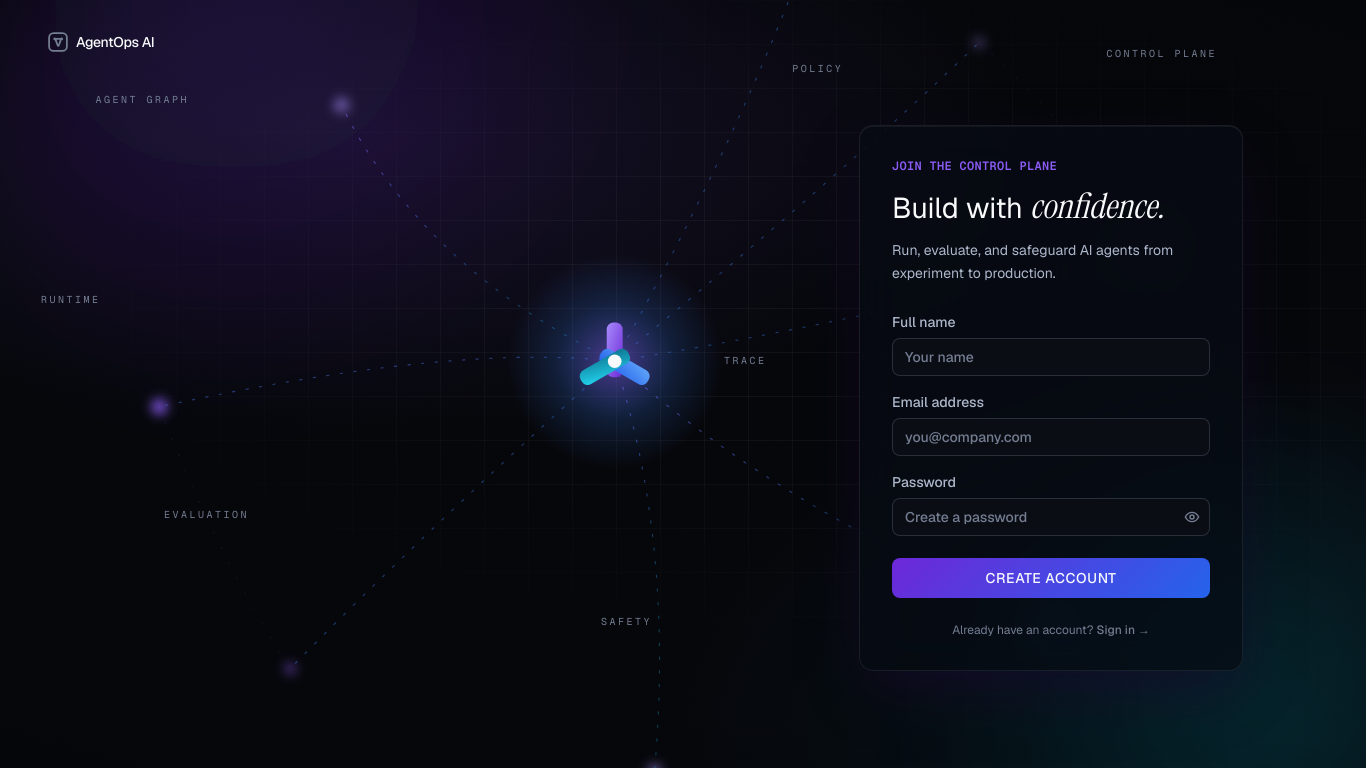
RegisterPage — BUG-001 › a 422 with a backend-derived validation message displays that real message
The image size is (1366, 768).
Type "new-user@example.com" into the field labelled "Email address" at (1051, 438), box [892, 418, 1210, 456]
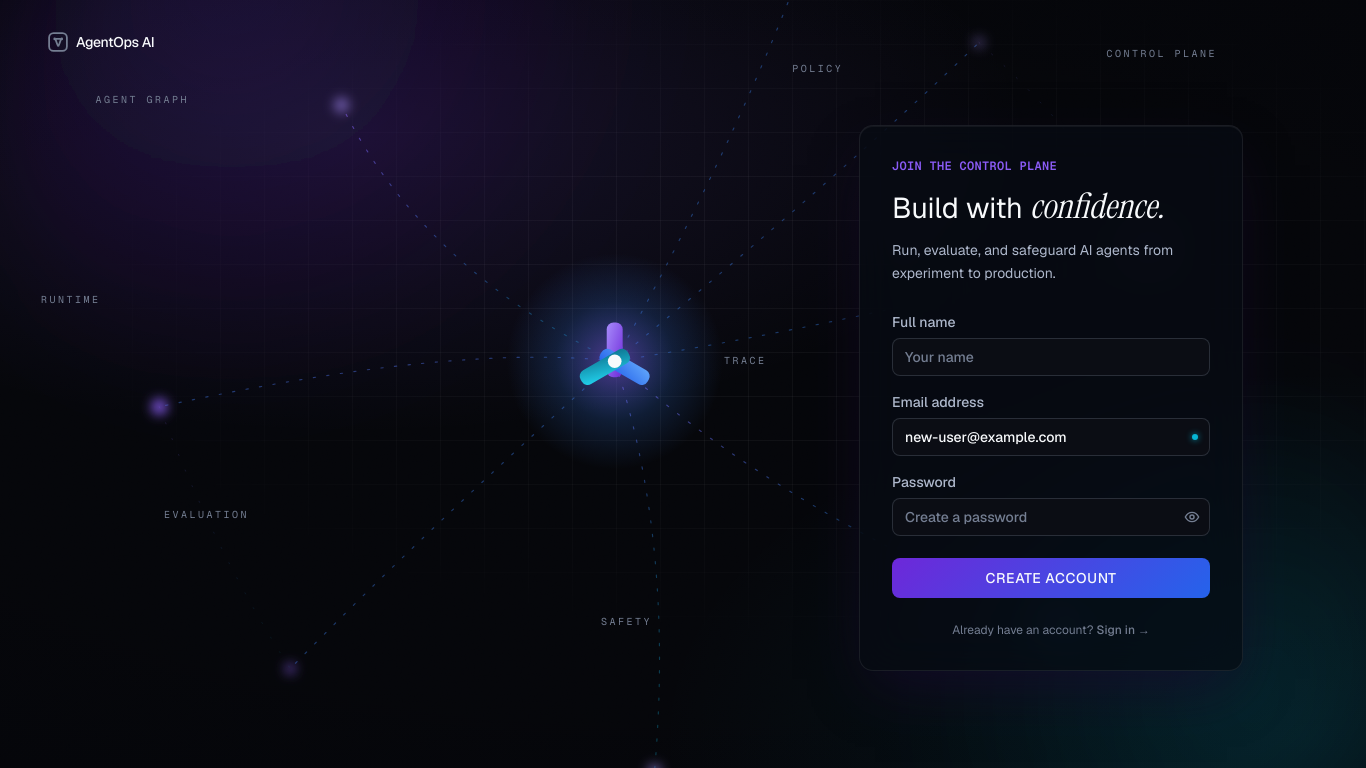
Type "Password123!" into the password field labelled "Password" at (1051, 518), box [892, 498, 1210, 536]
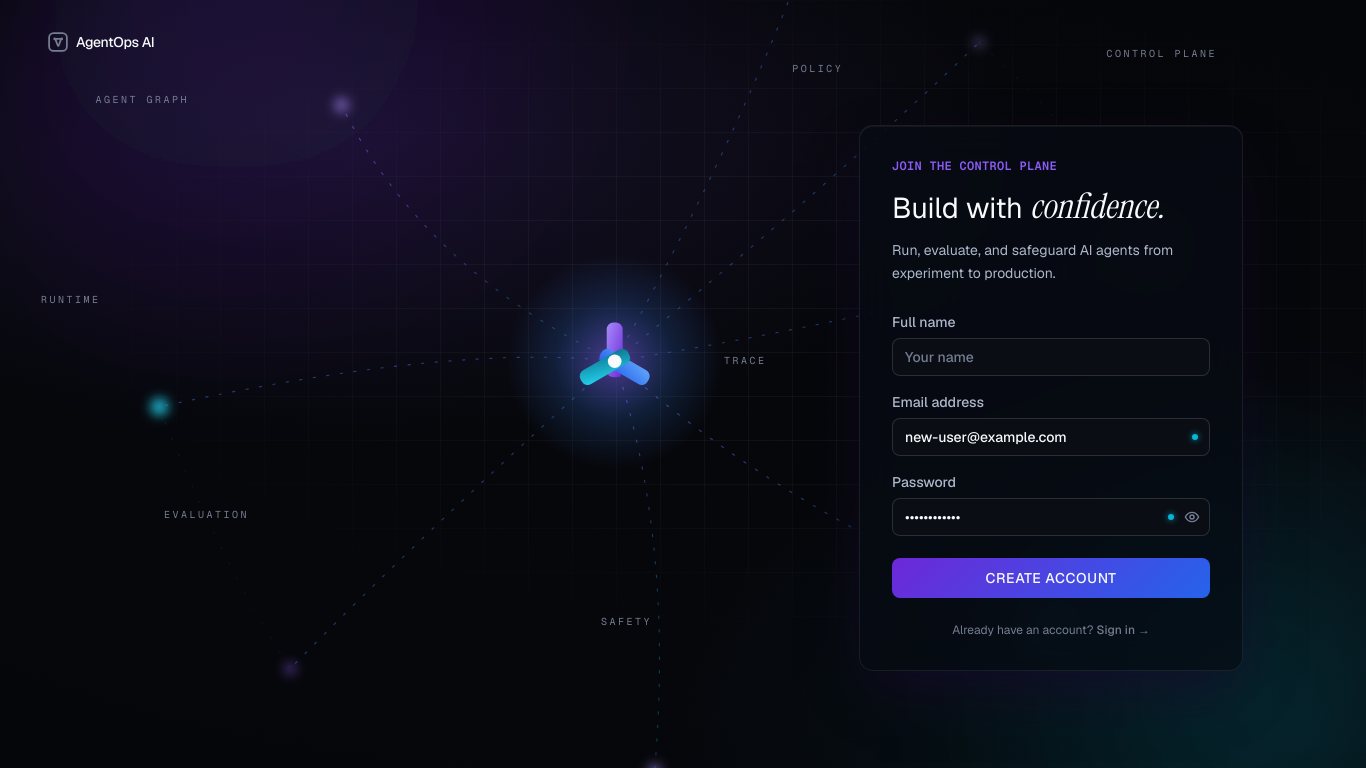
Click the button "CREATE ACCOUNT" at (1051, 578), box [892, 558, 1210, 598]
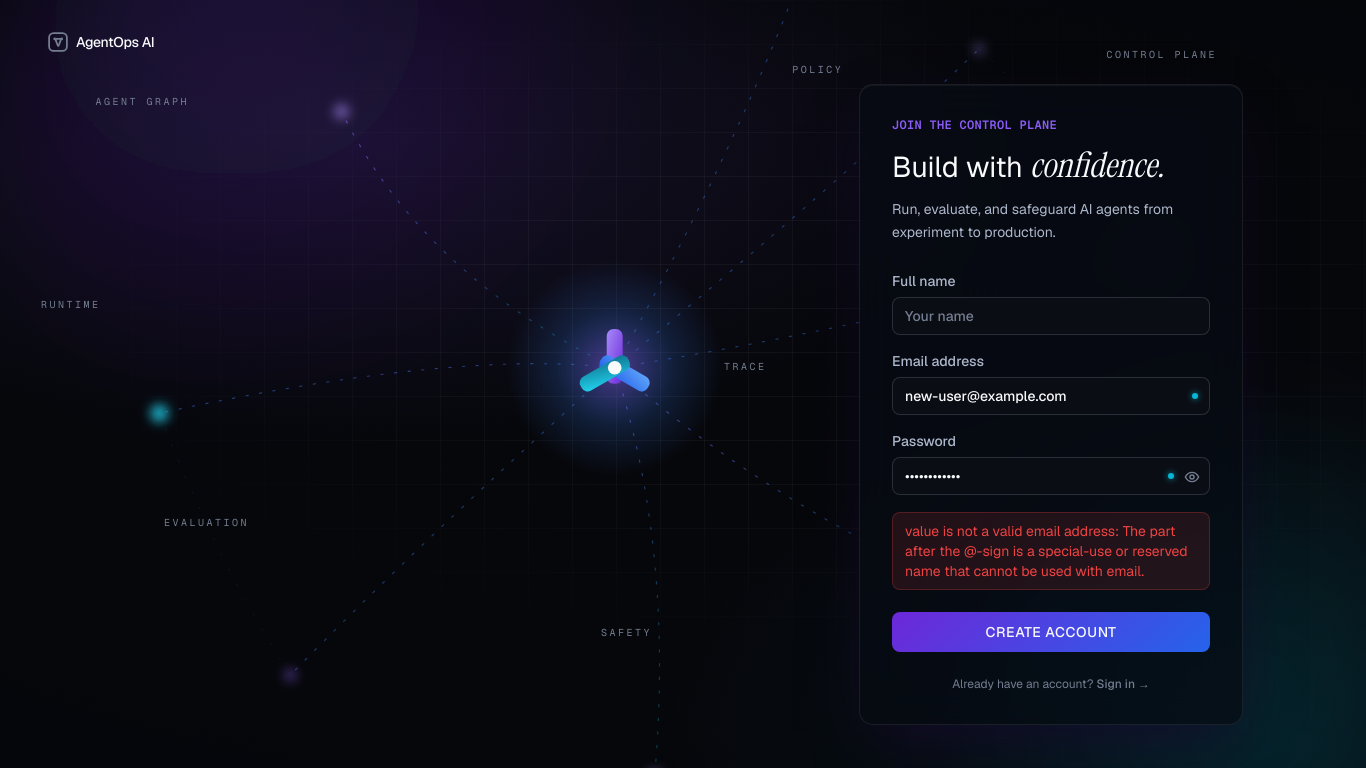
Check: the text "value is not a valid email address: The part after the @-sign is a special-use or reserved name that cannot be used with" is shown, box [905, 522, 1188, 580]
